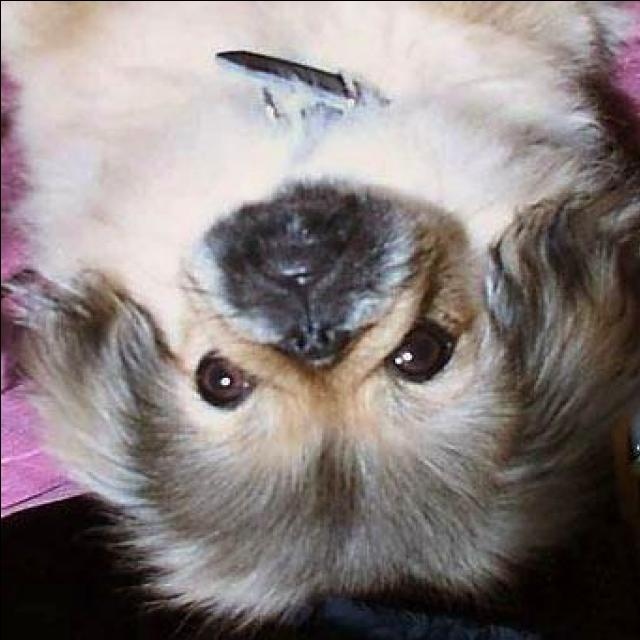pekinese: (2, 2, 640, 630)
